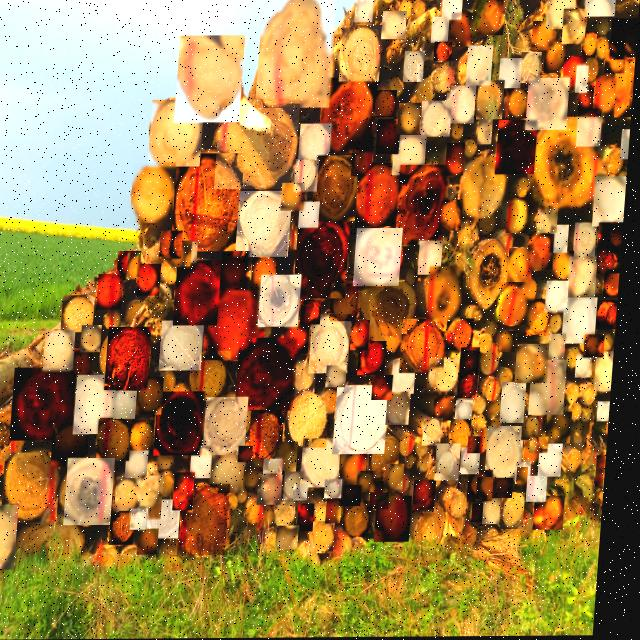wood-log: (257, 0, 337, 109), (529, 118, 613, 212), (217, 99, 302, 190), (174, 154, 247, 252), (176, 36, 246, 123), (16, 367, 83, 441), (208, 288, 272, 361), (241, 338, 304, 411), (297, 220, 354, 299), (8, 453, 69, 525), (321, 78, 379, 153), (399, 165, 452, 245), (339, 386, 395, 455), (239, 191, 296, 257), (150, 100, 206, 167), (186, 484, 238, 556), (71, 458, 122, 525), (161, 392, 213, 456), (462, 158, 513, 223), (178, 261, 226, 326), (316, 156, 362, 223), (359, 164, 406, 227), (110, 327, 157, 390), (357, 229, 406, 287), (133, 163, 179, 223), (210, 397, 255, 456), (405, 320, 452, 374), (314, 315, 357, 374), (80, 375, 123, 434), (292, 392, 336, 448), (340, 26, 383, 82), (527, 79, 571, 131), (498, 121, 540, 175), (164, 321, 209, 371), (263, 275, 306, 327), (492, 427, 531, 481), (535, 361, 573, 416), (432, 267, 469, 322), (308, 439, 349, 488), (196, 352, 237, 400), (382, 496, 420, 543), (255, 410, 291, 459), (0, 506, 27, 570), (58, 423, 96, 467), (596, 177, 629, 227), (567, 298, 602, 345), (503, 283, 540, 326), (103, 418, 139, 461), (217, 455, 253, 494), (155, 500, 190, 539), (395, 136, 429, 176), (375, 436, 407, 478), (521, 345, 555, 384), (48, 331, 81, 371), (571, 257, 602, 299), (616, 56, 637, 118), (66, 295, 100, 333), (224, 251, 255, 291), (472, 0, 506, 36), (610, 19, 639, 60), (301, 124, 334, 160), (447, 86, 478, 124), (422, 102, 454, 138), (433, 359, 465, 395), (145, 476, 171, 520), (541, 496, 573, 531), (506, 383, 533, 424), (334, 284, 363, 322), (478, 81, 506, 120), (350, 502, 380, 538), (467, 46, 494, 86), (600, 223, 627, 263), (595, 76, 621, 117), (142, 377, 170, 415), (578, 109, 604, 148), (363, 342, 392, 376), (531, 235, 558, 271), (101, 275, 128, 311), (464, 353, 485, 399), (530, 300, 556, 337), (442, 444, 468, 481), (508, 493, 533, 530), (122, 477, 149, 511), (510, 199, 536, 234), (452, 319, 480, 351), (346, 455, 374, 487), (552, 412, 579, 445), (136, 420, 162, 454), (451, 13, 477, 47), (511, 249, 537, 283), (397, 360, 422, 395), (378, 120, 403, 155), (562, 10, 587, 45), (547, 0, 576, 30), (288, 322, 315, 354), (197, 446, 223, 479), (392, 392, 417, 426), (422, 242, 447, 276), (577, 223, 601, 258), (180, 473, 202, 511), (117, 513, 143, 545), (255, 258, 281, 290), (318, 522, 344, 554), (545, 445, 570, 478), (297, 159, 322, 192), (563, 58, 587, 92), (475, 471, 500, 503), (264, 475, 290, 505), (420, 481, 444, 513), (549, 282, 573, 314), (141, 264, 165, 296), (432, 61, 456, 93), (600, 353, 619, 393), (455, 419, 478, 452), (544, 43, 568, 74), (399, 104, 423, 135), (532, 22, 557, 51), (500, 59, 524, 89), (281, 443, 305, 473), (301, 361, 323, 393), (374, 91, 399, 119), (382, 12, 407, 40), (121, 251, 145, 280), (507, 89, 530, 119), (521, 53, 543, 84), (404, 52, 426, 83), (284, 184, 308, 212), (282, 500, 304, 530), (448, 143, 468, 176), (354, 146, 375, 177), (132, 451, 156, 478), (76, 348, 99, 376), (120, 391, 143, 419), (446, 200, 466, 231), (601, 301, 622, 330), (355, 321, 375, 351), (601, 249, 625, 274), (85, 325, 107, 352), (429, 419, 451, 446), (533, 476, 555, 503), (377, 482, 398, 510), (465, 349, 486, 377), (557, 251, 578, 279), (391, 465, 412, 493), (467, 448, 488, 475), (607, 265, 624, 298), (291, 472, 311, 500), (553, 226, 573, 254), (585, 0, 616, 18), (284, 527, 307, 551), (463, 376, 485, 401), (146, 529, 167, 555), (302, 202, 323, 228), (163, 231, 184, 257), (175, 241, 196, 267), (605, 50, 627, 74), (305, 300, 326, 325), (378, 376, 399, 401), (490, 498, 509, 525), (431, 17, 450, 44), (305, 504, 323, 532), (440, 397, 461, 421), (528, 417, 549, 441), (579, 83, 596, 112), (331, 366, 353, 388), (540, 211, 561, 234), (347, 486, 370, 507), (589, 335, 610, 358), (554, 335, 571, 361), (499, 479, 521, 499), (250, 468, 270, 490), (355, 0, 374, 23), (581, 355, 599, 379), (333, 499, 350, 524), (442, 0, 463, 20), (435, 42, 454, 64), (582, 33, 598, 59), (484, 478, 501, 502), (601, 226, 617, 251), (531, 441, 547, 466), (479, 120, 495, 145), (365, 472, 384, 493), (183, 242, 202, 263), (576, 66, 590, 94), (138, 509, 156, 530), (523, 463, 540, 485), (131, 254, 145, 280), (173, 231, 186, 259), (505, 332, 522, 353), (332, 480, 350, 499), (461, 401, 479, 420), (270, 460, 290, 476), (524, 468, 536, 494), (603, 456, 613, 487), (536, 438, 555, 454), (617, 221, 627, 249), (136, 509, 149, 530), (623, 130, 632, 160), (603, 402, 616, 422), (625, 38, 638, 58), (475, 437, 490, 454), (301, 484, 316, 501), (245, 446, 260, 462), (479, 504, 491, 523), (580, 109, 603, 118), (0, 466, 3, 492), (0, 375, 0, 423)
